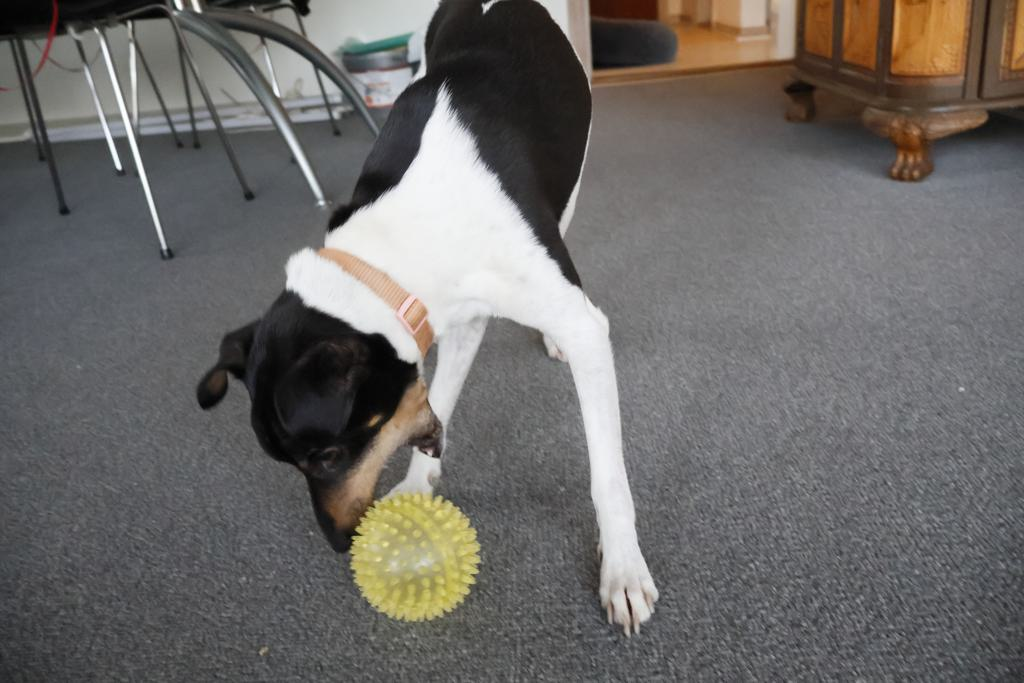Dog: (183, 0, 683, 653)
